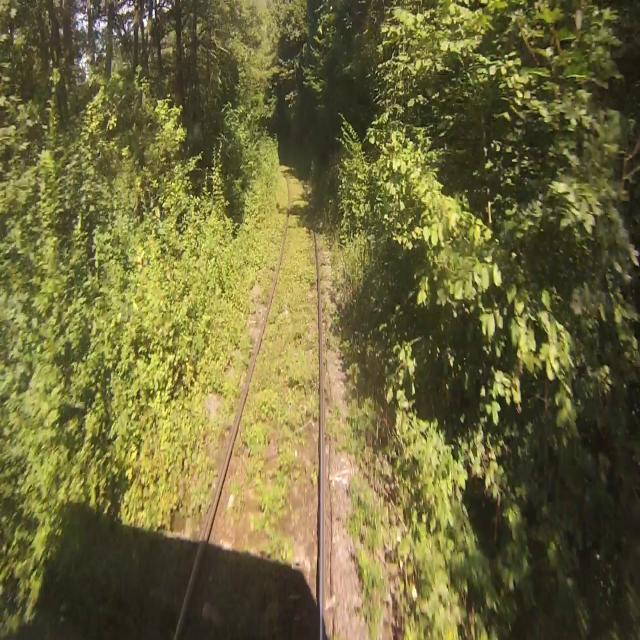Plant: (130, 162, 285, 575), (319, 201, 406, 634), (225, 175, 319, 565), (116, 598, 168, 633), (263, 591, 300, 626)
